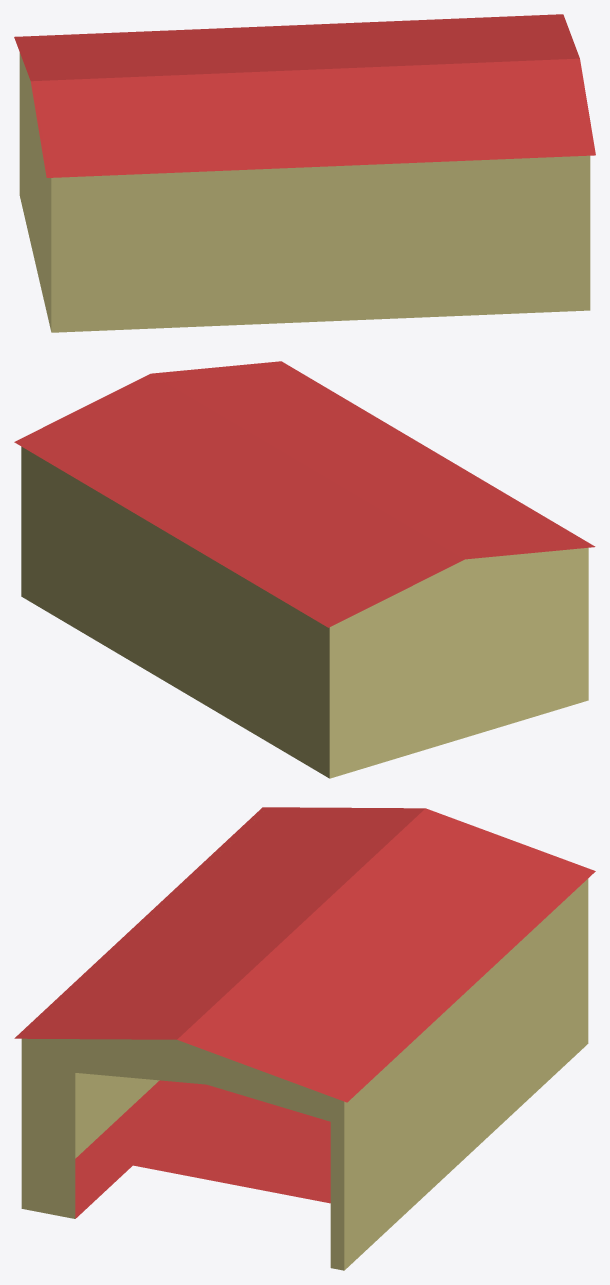
3 views of the same model, one above another, from view 1: azimuth 30°, elevation 25°; view 2: azimuth 150°, elevation 25°; view 3: azimuth 270°, elevation 25° (orthographic). The views are drawn at different scales.
Bounding box in the file's own units: 30.16 × 25.11 × 9.59.
